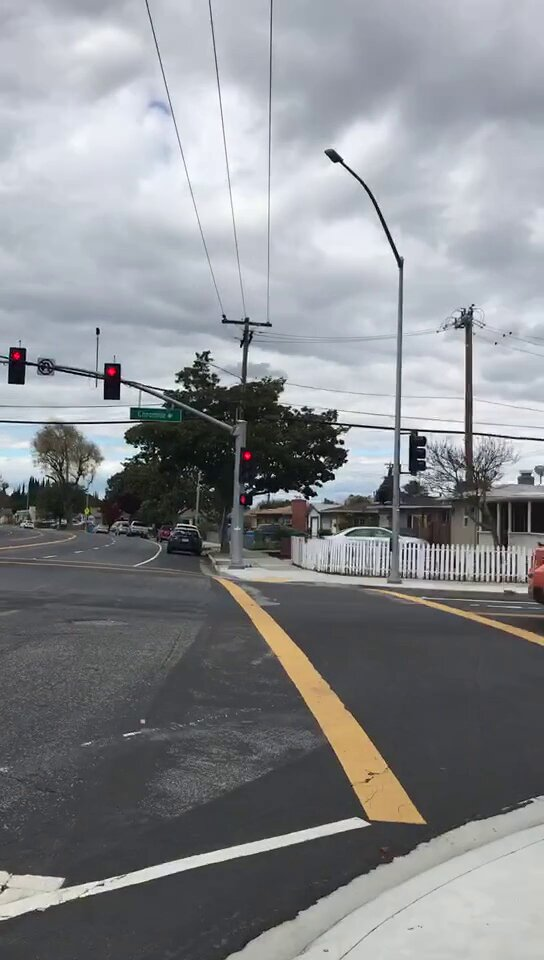red_light: (239, 446, 256, 481), (105, 364, 121, 399), (10, 348, 24, 383)
